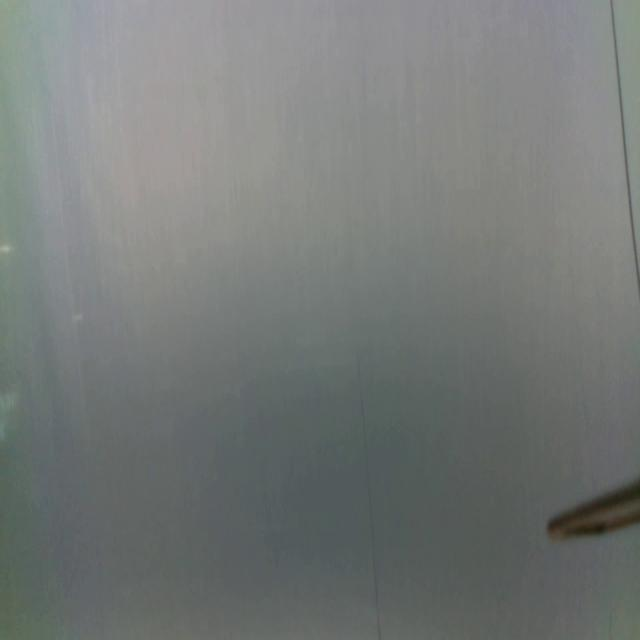crease: (50, 110, 90, 445), (610, 0, 640, 288), (355, 346, 383, 640)
